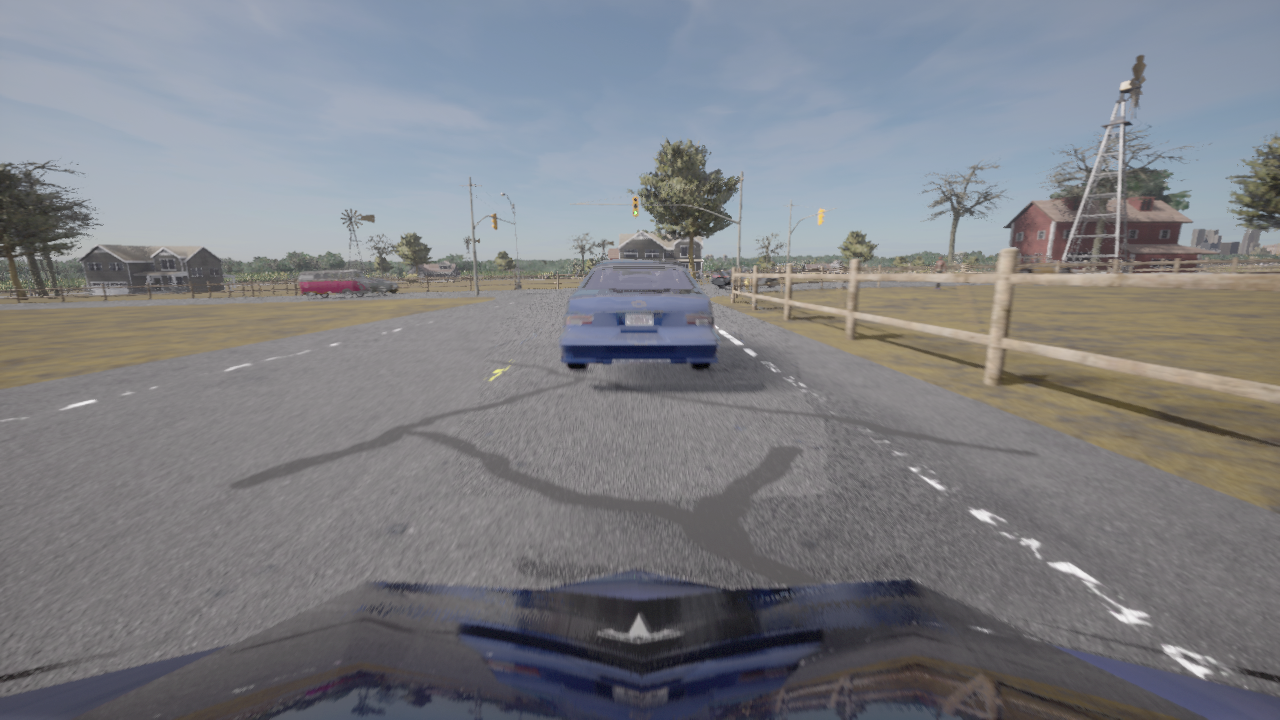cyclist: (0, 569, 1279, 719), (559, 260, 718, 370), (299, 270, 371, 299), (711, 266, 778, 289), (1016, 255, 1076, 273), (365, 278, 399, 295)
pedestrian: (934, 256, 945, 289), (744, 277, 750, 292)
